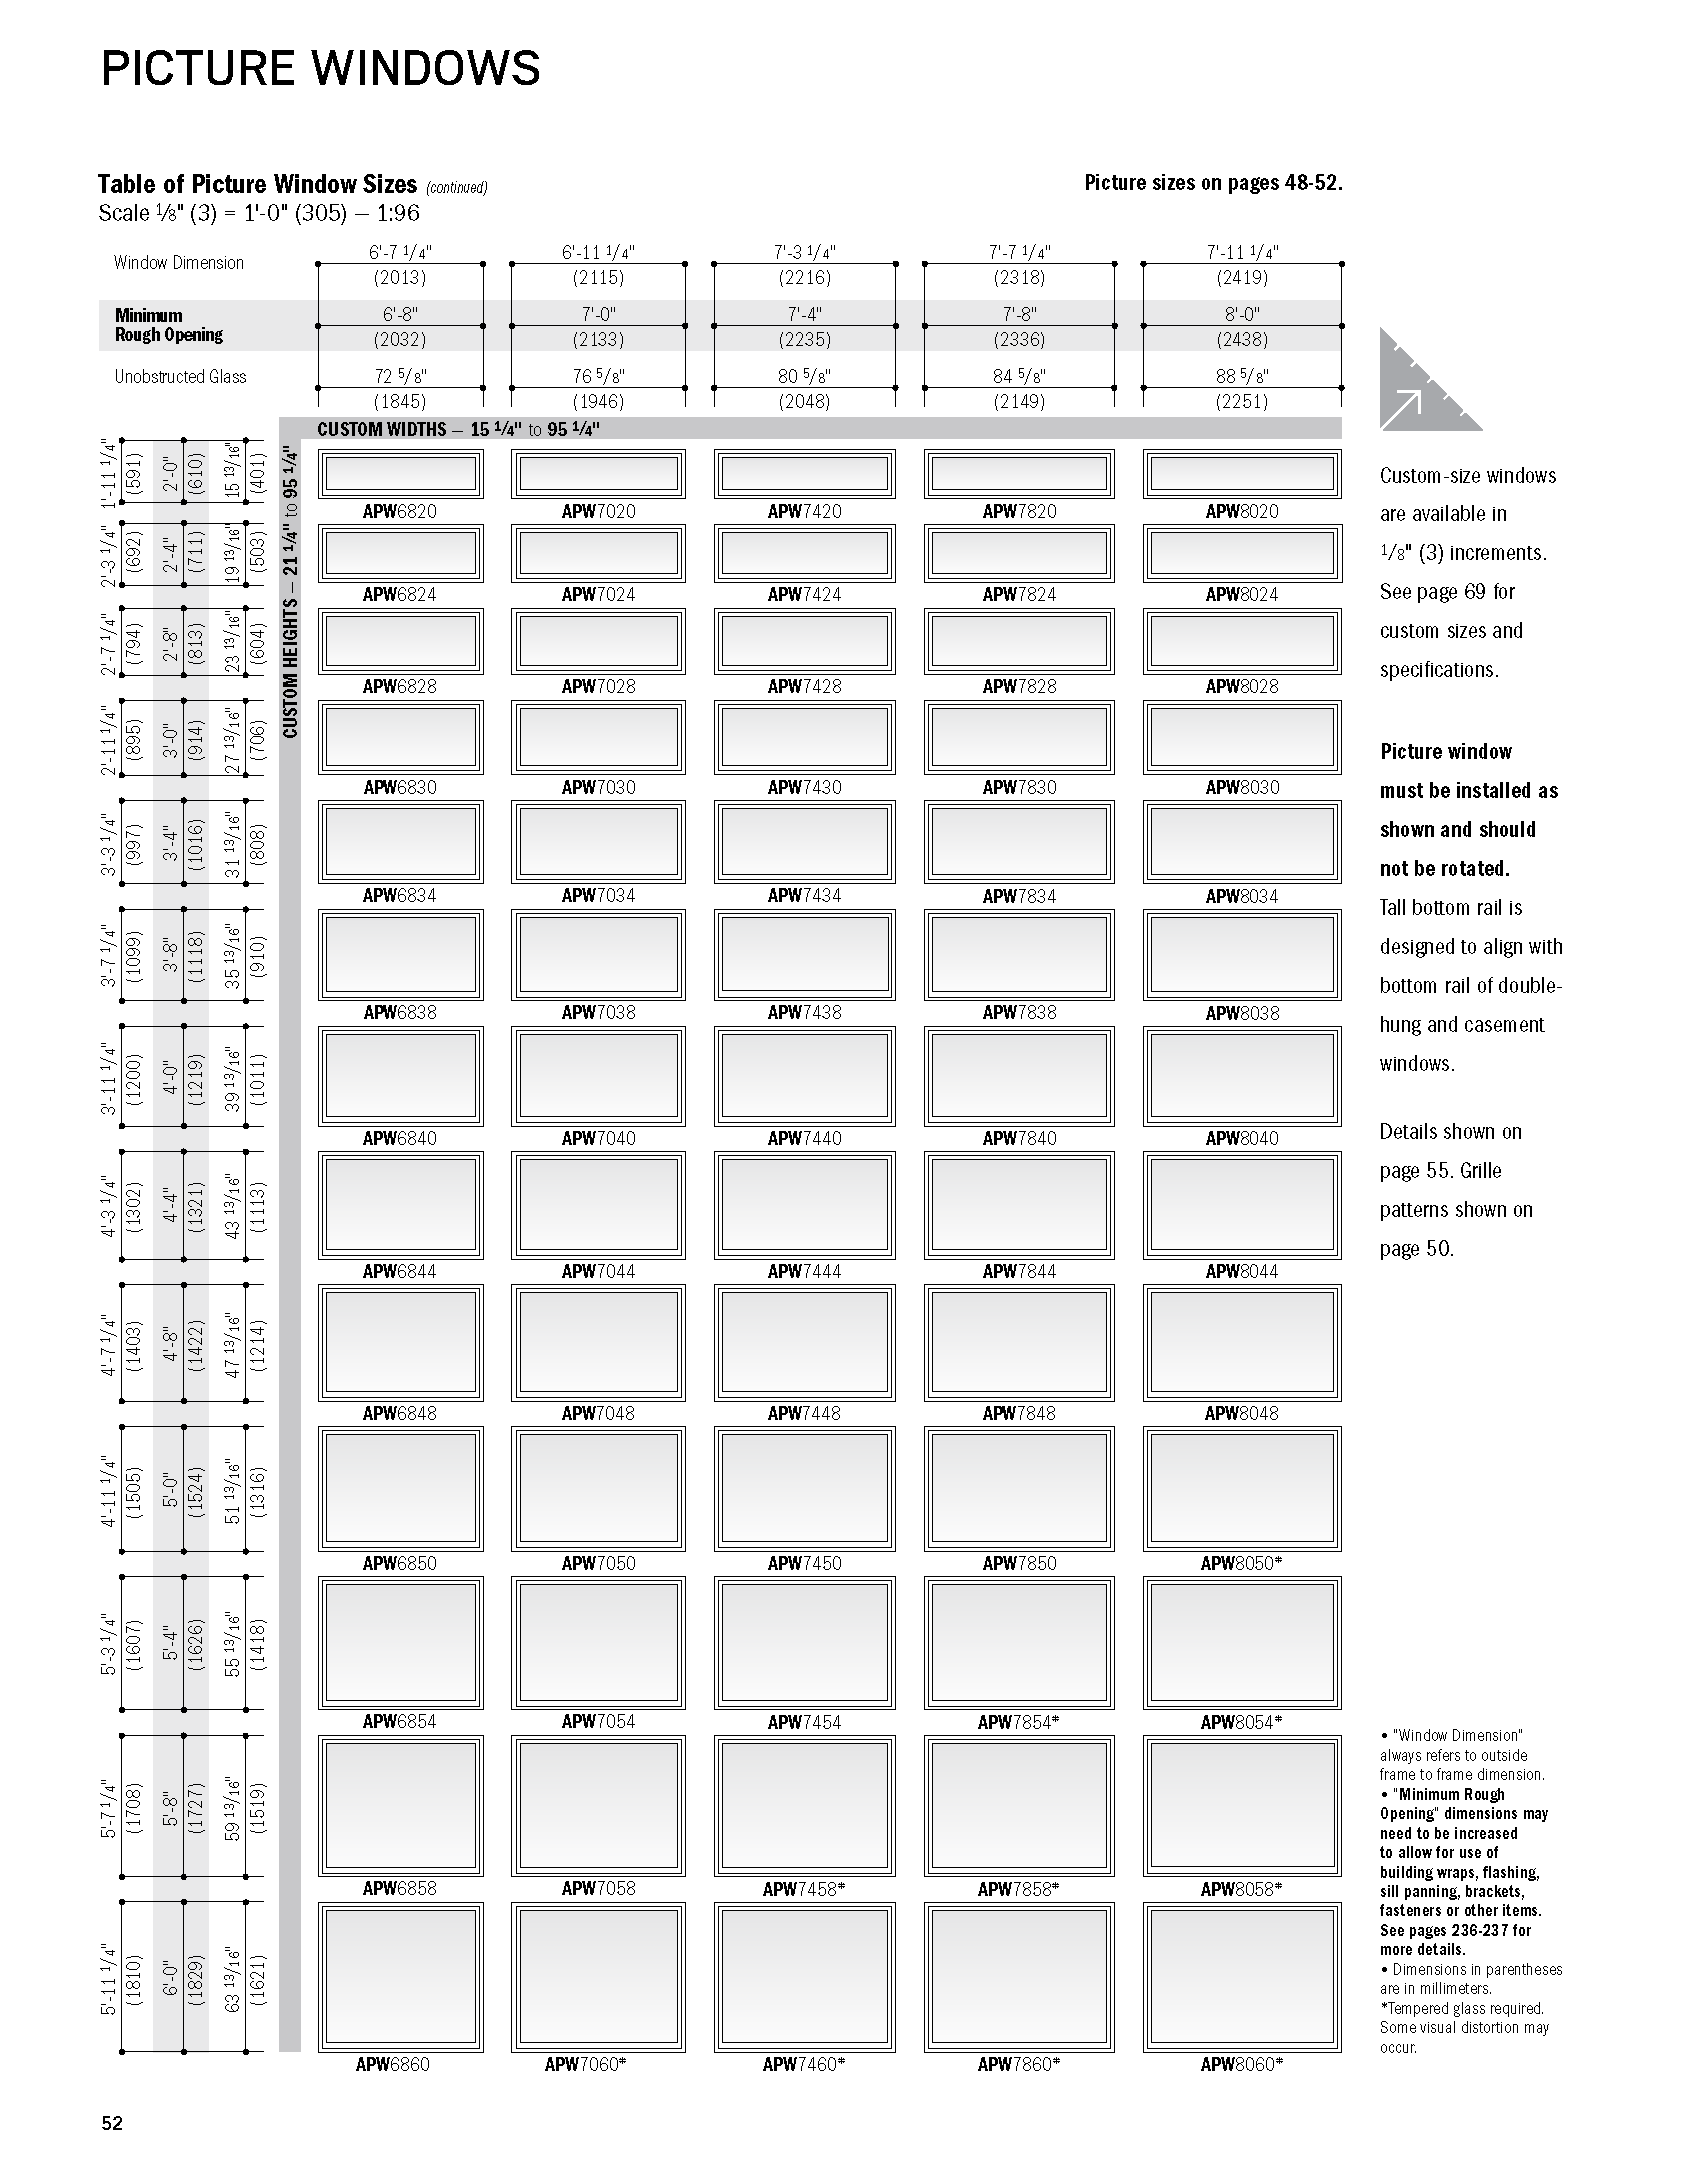tabledetected: (92, 231, 1347, 2073)
